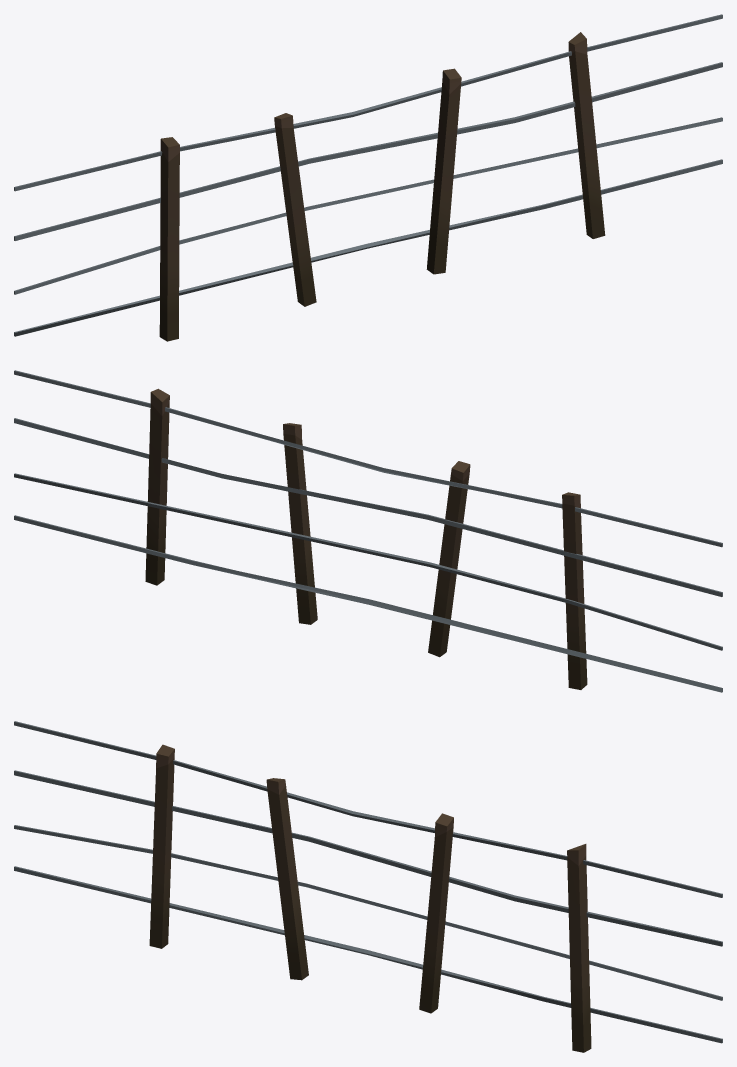
The model's file is fence.glb.
3 renders of one model, top to bottom at view 1: azimuth 30°, elevation 25°; view 2: azimuth 150°, elevation 25°; view 3: azimuth 330°, elevation 25°, orthographic.
Visible parts, largest first — view 1: SM_Bld_Fence_01; view 2: SM_Bld_Fence_01; view 3: SM_Bld_Fence_01.
Part boxes in pixels (x1=…): SM_Bld_Fence_01: x1=14, y1=14, x2=722, y2=341; SM_Bld_Fence_01: x1=14, y1=370, x2=722, y2=692; SM_Bld_Fence_01: x1=14, y1=721, x2=722, y2=1052.
Bounding box in the file's own units: 500 × 134 × 16.82.
Materials: 1 (1 with a texture image).
